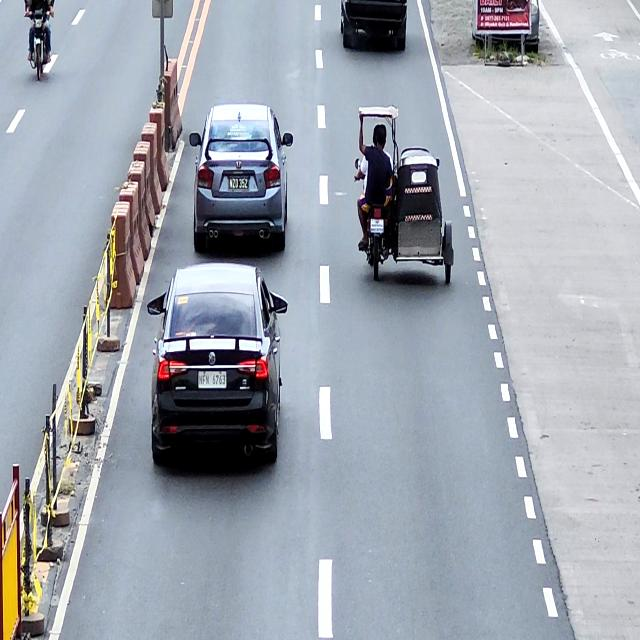Car: (146, 263, 288, 468), (190, 104, 293, 252)
License-Plate: (198, 372, 226, 388), (228, 178, 249, 191), (370, 218, 383, 234)
Motorcycle: (26, 8, 52, 79)
Tricycle: (354, 107, 454, 287)
